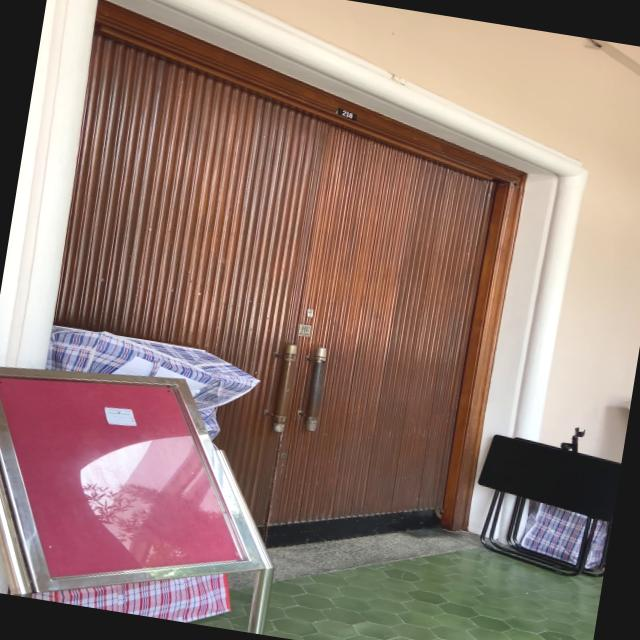room218: (334, 105, 360, 122)
